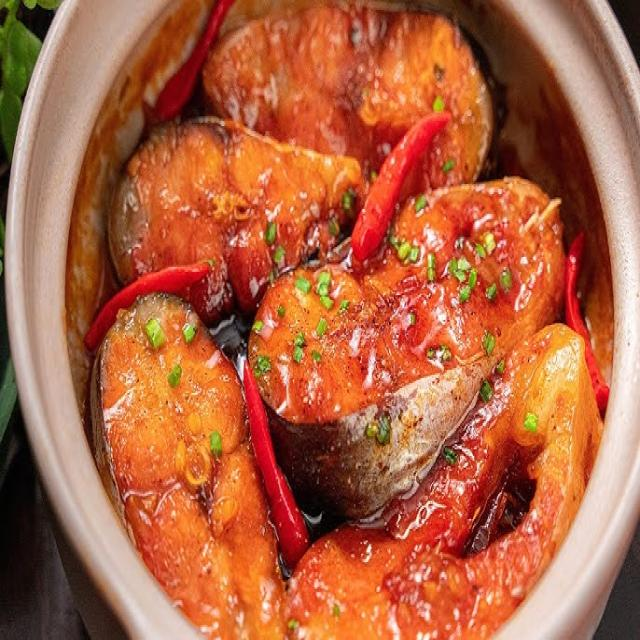ca kho: (90, 5, 602, 638)
ot: (351, 114, 447, 267), (242, 360, 308, 562), (87, 265, 209, 348)
